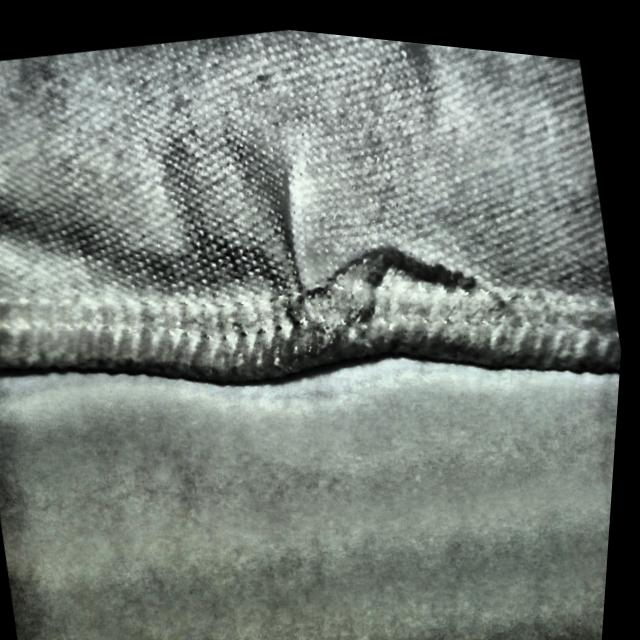seam: (223, 120, 503, 398)
